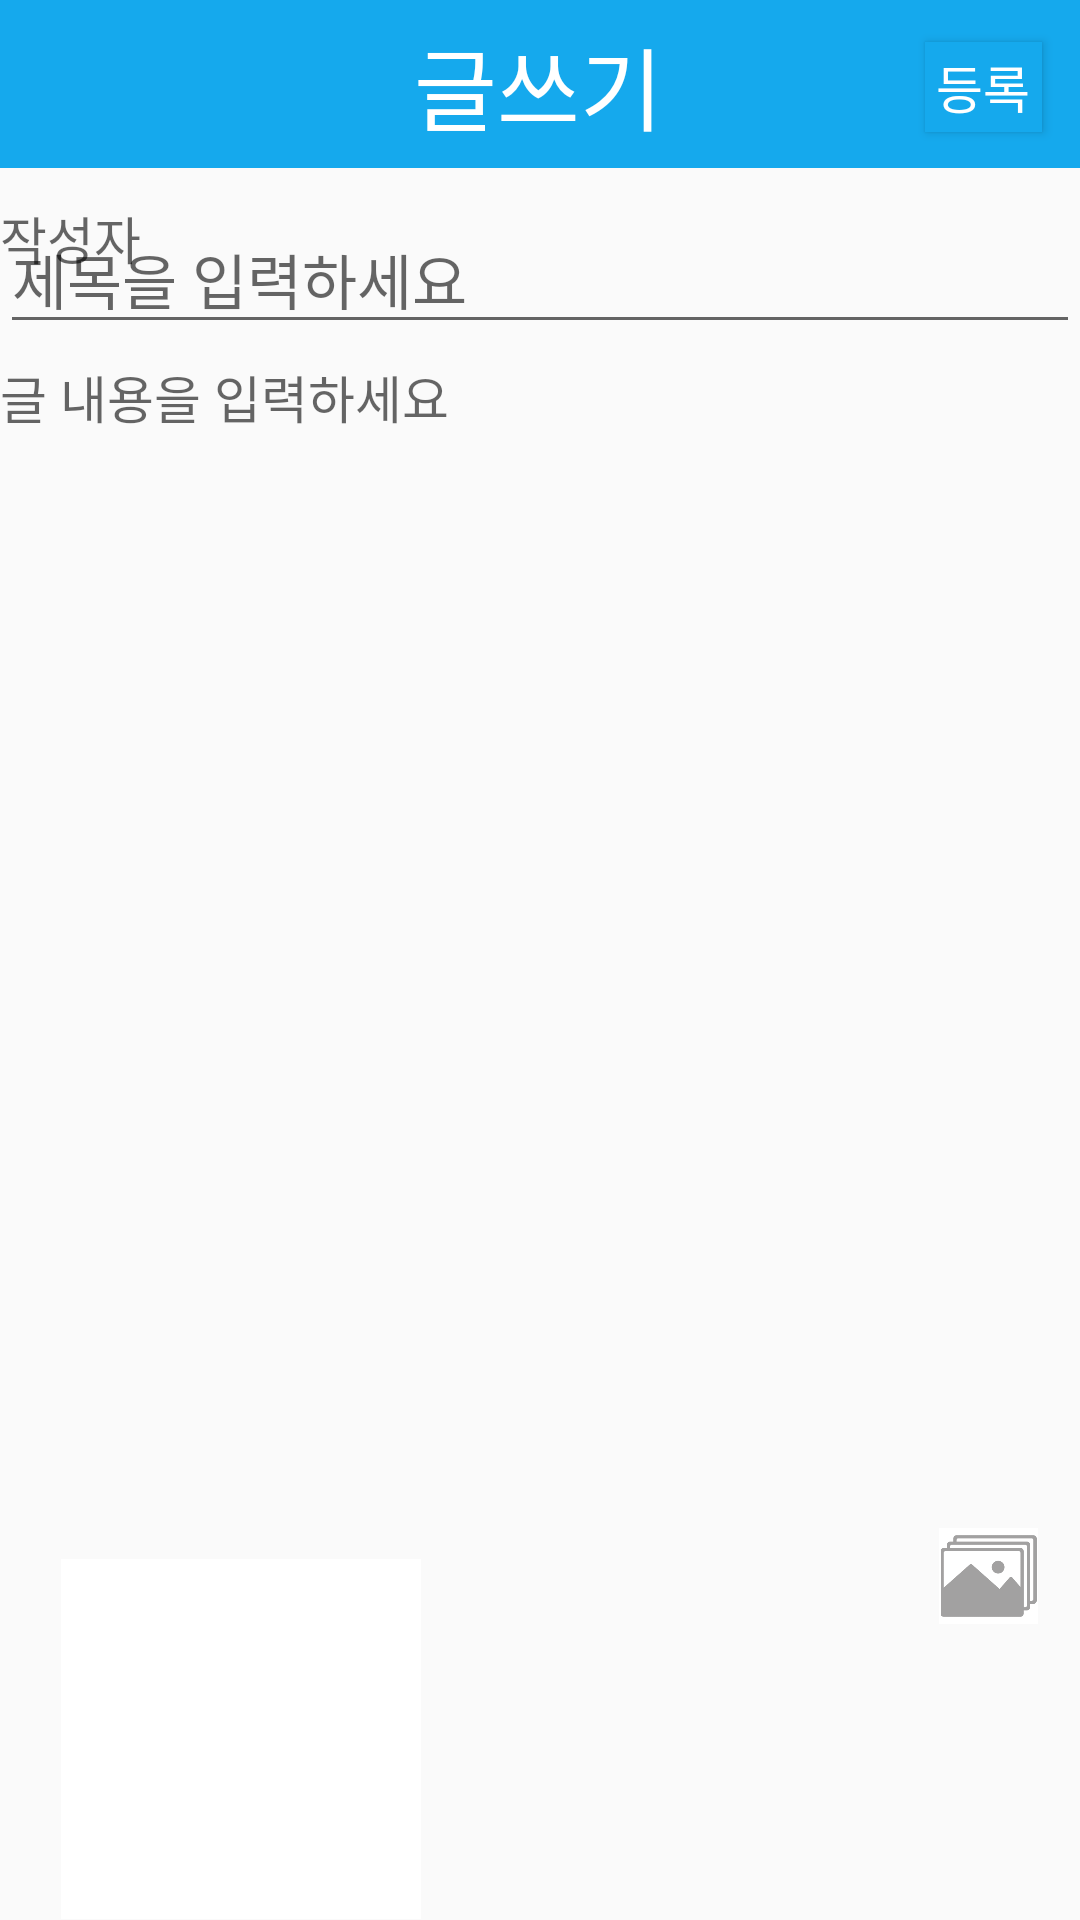

Where to tap for icons on this 1080 x 1920 app screen, as point (x, y):
gallery: point (989, 1576)
